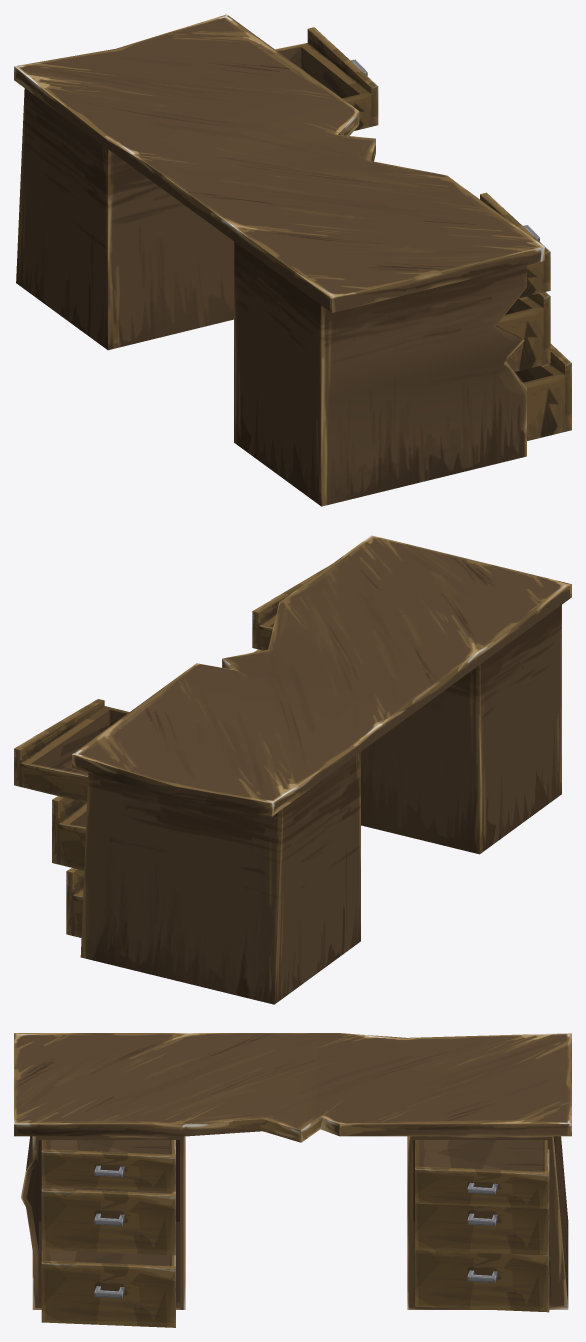
The model's file is Table_1.glb.
The picture shows the model from 3 angles, top to bottom: view 1: azimuth 30°, elevation 25°; view 2: azimuth 150°, elevation 25°; view 3: azimuth 270°, elevation 25°; orthographic projection. The views are drawn at different scales.
Parts seen in each view (by area): view 1: Table_1, Drawer_2.001, Drawer_1.001, Drawer_1, Drawer_2; view 2: Table_1, Drawer_2.001, Drawer_1.002, Drawer_2, Drawer_1.003; view 3: Table_1, Drawer_1.001, Drawer_2.001, Drawer_1, Drawer_1.003, Drawer_2, Drawer_1.002.
Boxes of the visible parts, left/top/right/bottom form: Table_1: left=14, top=14, right=544, bottom=506; Drawer_2.001: left=275, top=27, right=378, bottom=130; Drawer_1.001: left=514, top=344, right=571, bottom=440; Drawer_1: left=496, top=292, right=550, bottom=371; Drawer_2: left=480, top=192, right=550, bottom=298; Table_1: left=72, top=535, right=571, bottom=1004; Drawer_2.001: left=14, top=699, right=129, bottom=802; Drawer_1.002: left=52, top=796, right=86, bottom=870; Drawer_2: left=252, top=564, right=331, bottom=650; Drawer_1.003: left=66, top=868, right=84, bottom=937; Table_1: left=14, top=1033, right=571, bottom=1309; Drawer_1.001: left=41, top=1250, right=175, bottom=1327; Drawer_2.001: left=415, top=1140, right=549, bottom=1208; Drawer_1: left=41, top=1186, right=175, bottom=1255; Drawer_1.003: left=415, top=1250, right=549, bottom=1312; Drawer_2: left=41, top=1140, right=175, bottom=1191; Drawer_1.002: left=415, top=1203, right=549, bottom=1255.
Size of the model in its own units: 1.16 by 0.8 by 2.14.
Materials: 2 (2 with a texture image).
